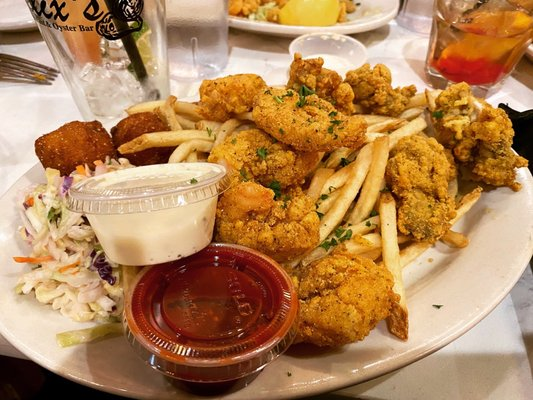burger: (0, 52, 60, 85)
pizza: (24, 0, 170, 125), (424, 0, 533, 100), (161, 0, 231, 96)
soup: (34, 120, 124, 190)
sushi: (124, 241, 300, 392), (64, 161, 227, 266)
